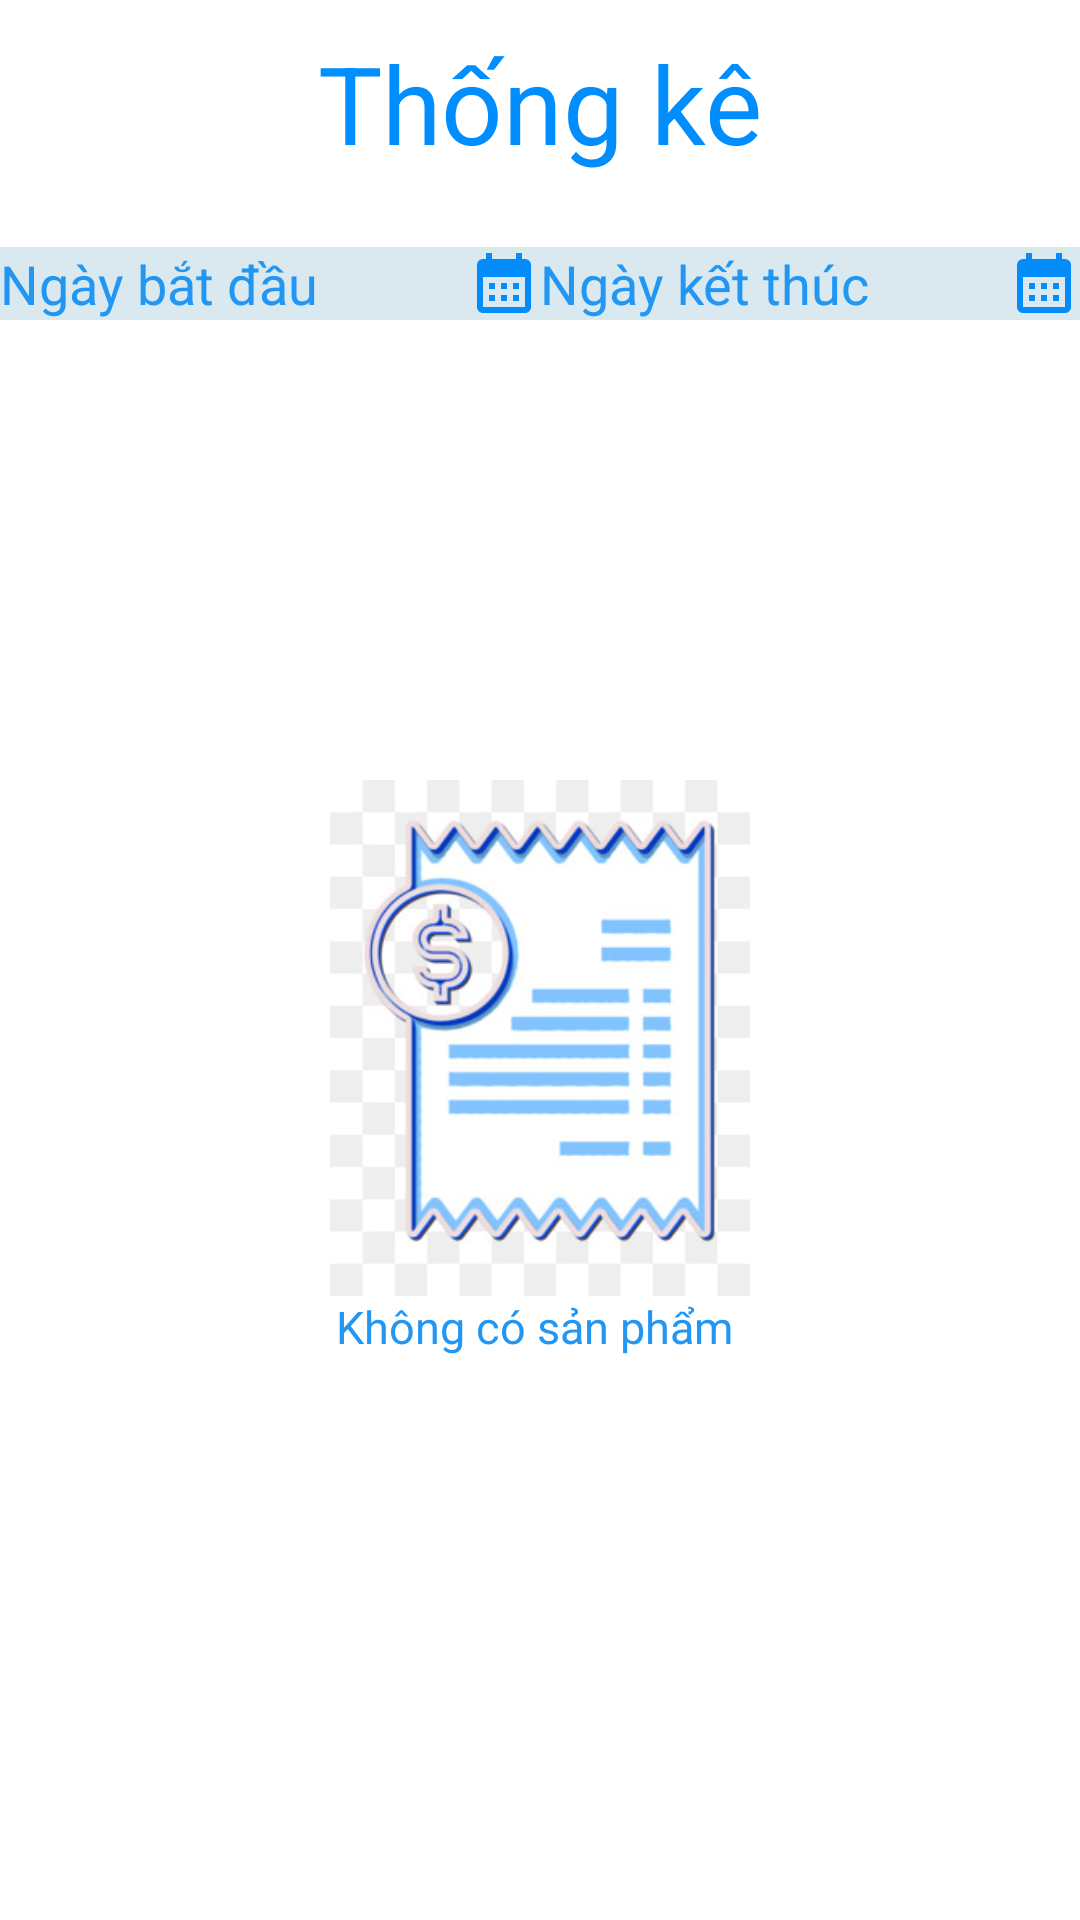

Icons on this 1080px×1920px Android screen, each with the point to tap as (x,y):
calendar month: (504,283), (1044,283)
